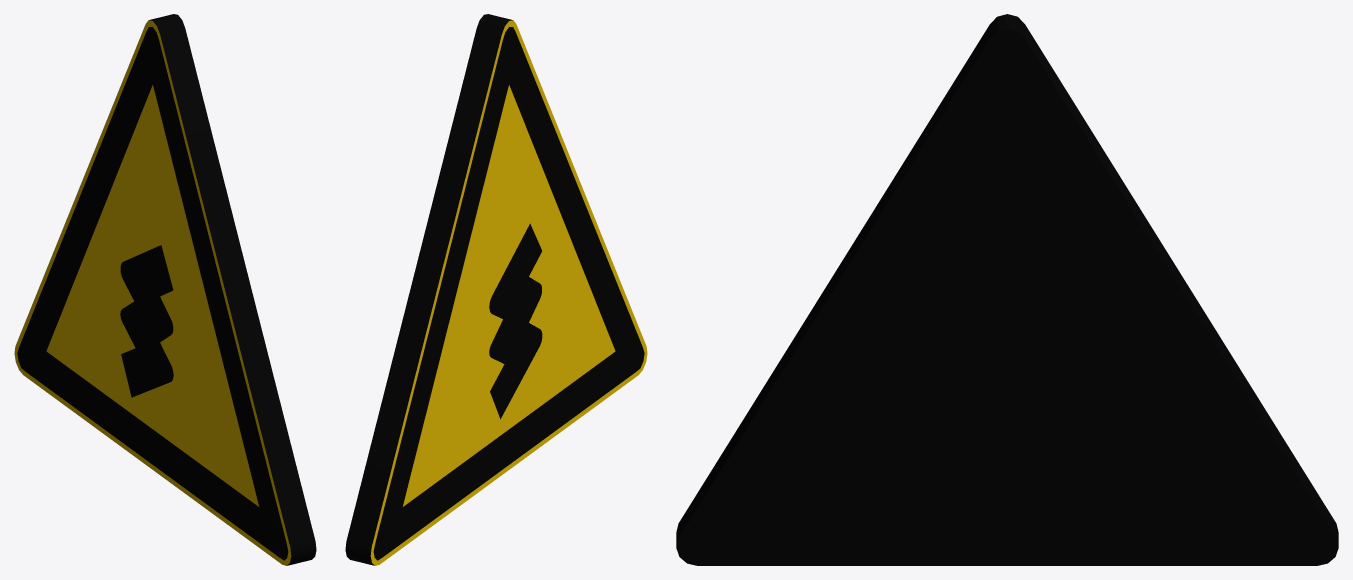
The model's file is Long_Curve_Road.fbx.
3 views of the same model, side by side, from view 1: azimuth 30°, elevation 25°; view 2: azimuth 150°, elevation 25°; view 3: azimuth 270°, elevation 25° (orthographic). The views are drawn at different scales.
Visible parts, largest first — view 1: Long_Curve_Road; view 2: Long_Curve_Road; view 3: Long_Curve_Road.
Boxes of the visible parts, bbox=[...] form: Long_Curve_Road: bbox=[14, 14, 316, 565]; Long_Curve_Road: bbox=[345, 14, 647, 565]; Long_Curve_Road: bbox=[676, 14, 1338, 565].
Size of the model in its own units: 0.075 by 1.02 by 1.14.
